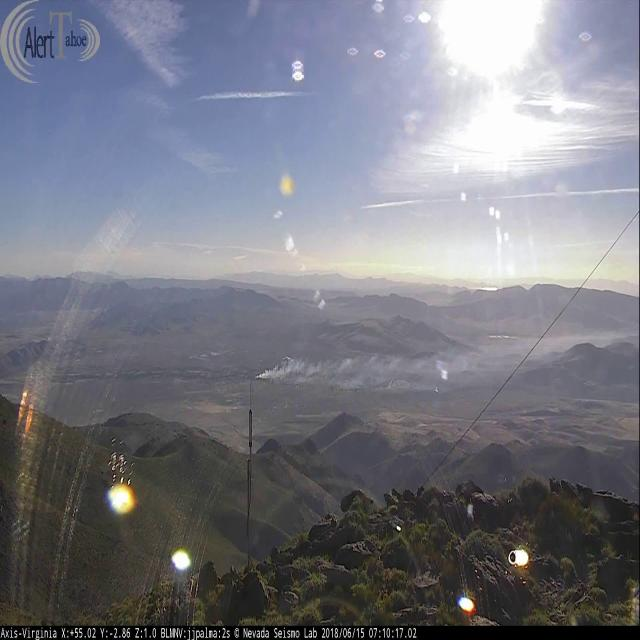smoke: (256, 353, 444, 381)
